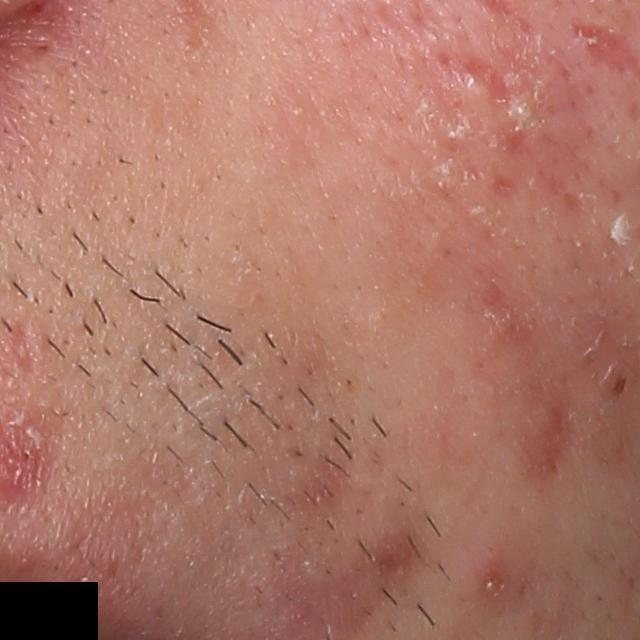papule: (478, 561, 510, 598)
